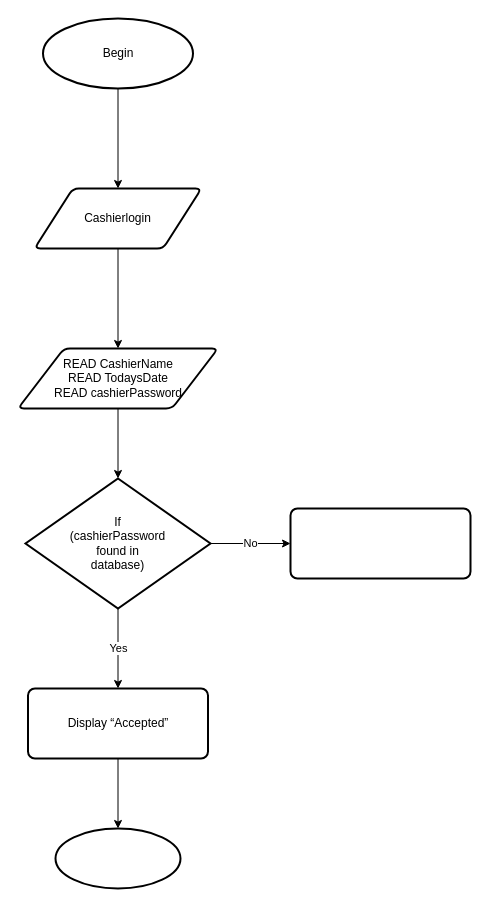
Image size: 489x906. Some labels were removed from this diagram. Each missing label, with the centre of its shape:
Display “Error”: point 380,543
End: point 117,858
